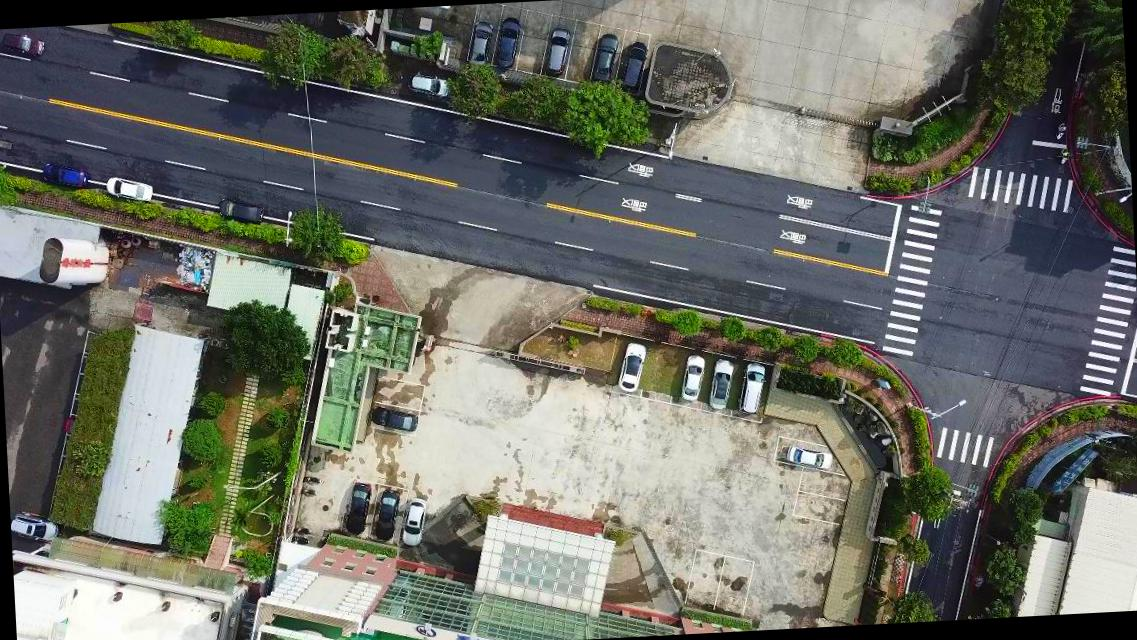vehicle: (614, 334, 650, 394), (736, 360, 768, 415), (706, 356, 736, 414), (342, 482, 372, 538), (372, 488, 401, 544), (403, 68, 452, 101), (216, 194, 266, 226), (618, 42, 650, 92), (0, 31, 48, 64), (10, 509, 59, 541), (368, 406, 418, 437), (591, 34, 621, 85), (40, 162, 90, 192), (677, 354, 706, 404), (542, 31, 572, 78), (493, 20, 521, 70), (401, 498, 428, 549), (783, 446, 834, 473), (466, 22, 494, 71), (105, 175, 152, 203)
